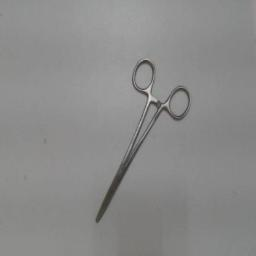Mayo Needle Holder: (90, 52, 198, 232)
